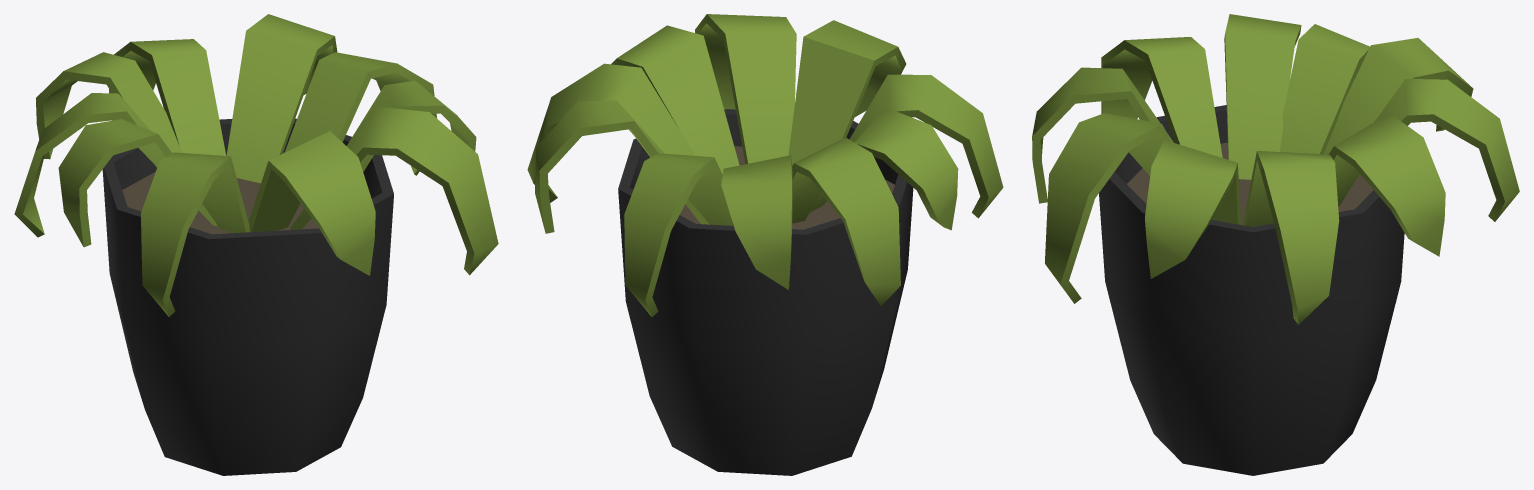
Rendered from Houseplant_5.gltf.
The picture shows the model from 3 angles, left to right: view 1: azimuth 30°, elevation 25°; view 2: azimuth 150°, elevation 25°; view 3: azimuth 270°, elevation 25°; orthographic projection. The views are drawn at different scales.
Visible parts, largest first — view 1: Houseplant_5; view 2: Houseplant_5; view 3: Houseplant_5.
Part boxes in pixels (x1,y1,x2,y2): Houseplant_5: (14, 14, 498, 475); Houseplant_5: (527, 14, 1003, 475); Houseplant_5: (1032, 14, 1519, 475).
Bounding box in the file's own units: 0.5118 × 0.4236 × 0.5284.
